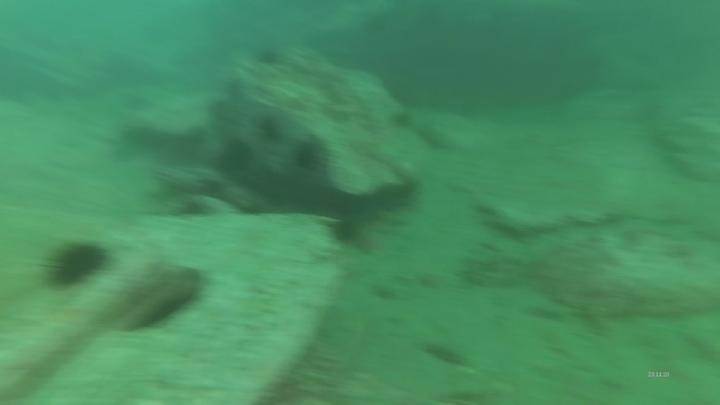echinus: (40, 236, 111, 292), (213, 136, 257, 179), (289, 134, 330, 174), (326, 211, 367, 249), (253, 112, 285, 145), (253, 44, 284, 70)
